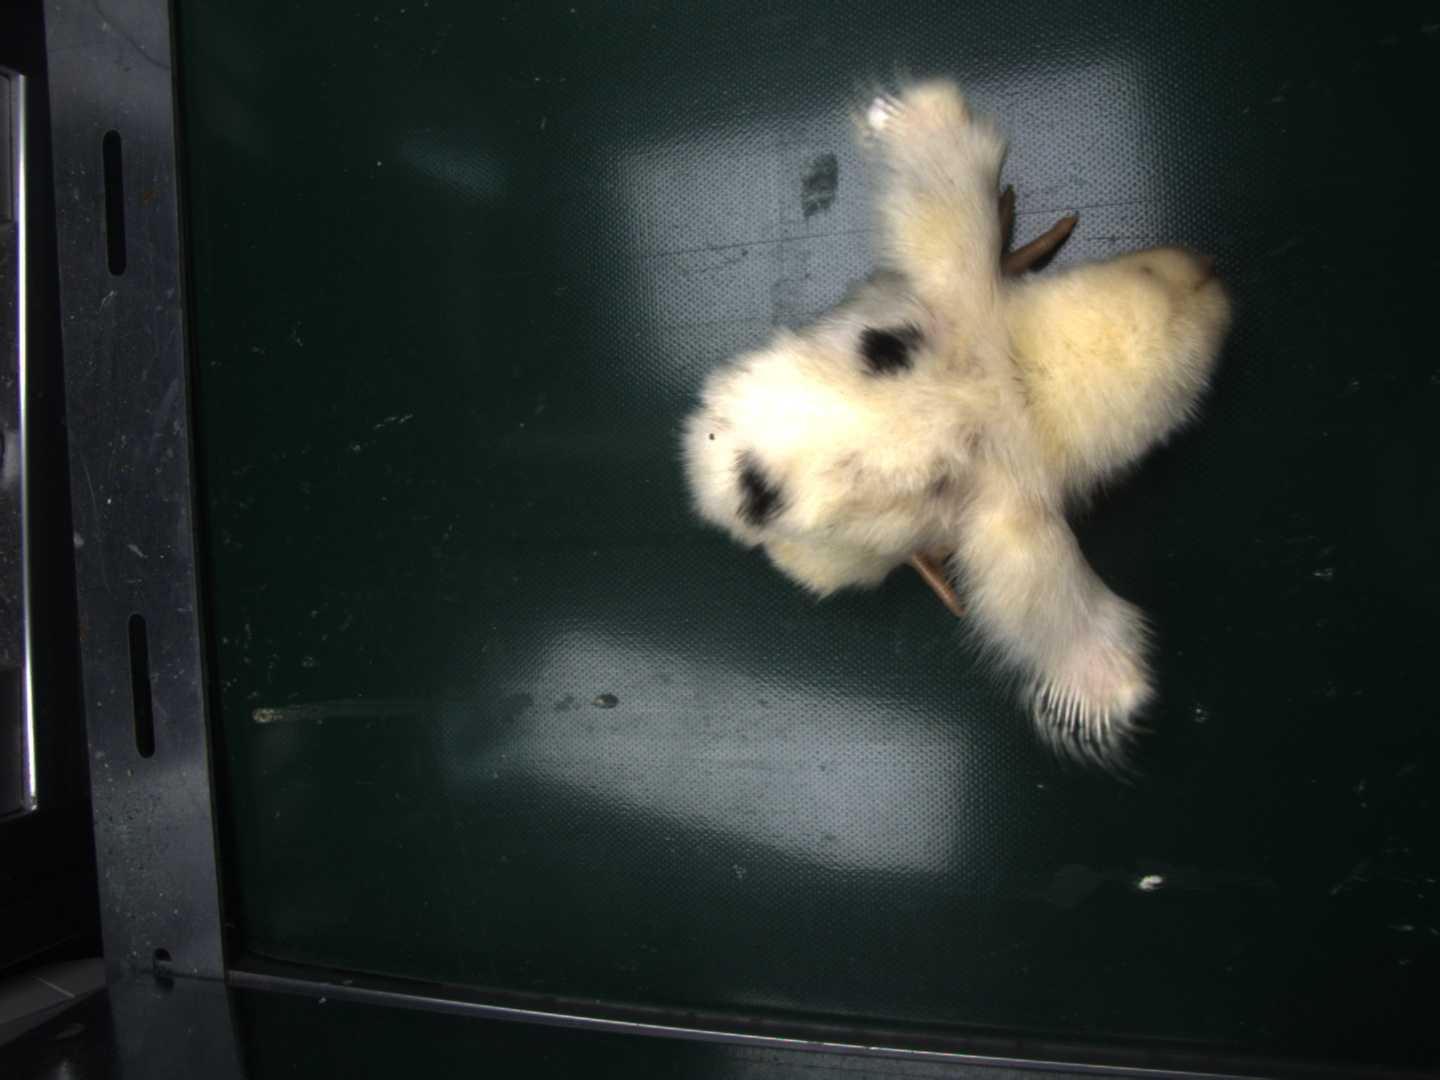male: (1032, 677, 1117, 743)
